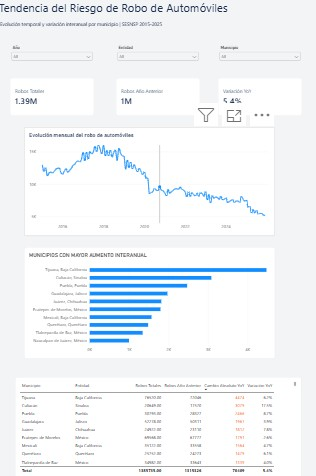

The page's visual inventory and layout, read from the dashboard file:
{"tool":"powerbi","page":{"name":"Tendencia del Riesgo","canvas":[1080,1600],"ordinal":1},"visuals":[{"type":"slicer","fields":{"Values":["DimFecha.Año"]},"box":[46.7,150,280,126.7],"z":0},{"type":"cardVisual","fields":{"Data":["Medidas.Robos Totales"]},"box":[46.7,260,280,126],"z":1000},{"type":"cardVisual","fields":{"Data":["Medidas.Robos Año Anterior"]},"box":[400,260,280,126],"z":2000},{"type":"cardVisual","fields":{"Data":["Medidas.Variación YoY"]},"box":[738.3,260,280,126],"z":3000},{"type":"slicer","fields":{"Values":["DimMunicipio.Entidad"]},"box":[400,150,280,126],"z":4000},{"type":"textbox","box":[0,0,820,150],"z":5000},{"type":"slicer","fields":{"Values":["DimMunicipio.Municipio"]},"box":[738.3,150,280,126],"z":6000},{"type":"lineChart","title":"Evolución mensual del robo de automóviles","fields":{"Category":["DimFecha.Date"],"Y":["Medidas.Robos Totales"]},"box":[91.7,421.7,836.7,365],"z":7000},{"type":"clusteredBarChart","title":"MUNICIPIOS CON MAYOR AUMENTO INTERANUAL","fields":{"Category":["DimMunicipio.Municipio Entidad"],"Y":["DimFecha.Cambio Absoluto YoY"]},"box":[91.7,823.3,836.7,373.3],"z":8000},{"type":"tableEx","fields":{"Values":["DimMunicipio.Municipio","DimMunicipio.Entidad","Medidas.Robos Totales","Medidas.Robos Año Anterior","DimFecha.Cambio Absoluto YoY","Medidas.Variación YoY"]},"box":[63.3,1256.7,955,343.3],"z":9000}]}

Visuals, with their boxes in screenshot pixels (x1, y1, x2, y2), scaled from the page's 1080x1600 canvas onto the 316x476 screenshot:
slicer - DimFecha.Año: Rect(14, 45, 96, 82)
cardVisual - Medidas.Robos Totales: Rect(14, 77, 96, 115)
cardVisual - Medidas.Robos Año Anterior: Rect(117, 77, 199, 115)
cardVisual - Medidas.Variación YoY: Rect(216, 77, 298, 115)
slicer - DimMunicipio.Entidad: Rect(117, 45, 199, 82)
textbox: Rect(0, 0, 240, 45)
slicer - DimMunicipio.Municipio: Rect(216, 45, 298, 82)
"Evolución mensual del robo de automóviles" lineChart: Rect(27, 125, 272, 234)
"MUNICIPIOS CON MAYOR AUMENTO INTERANUAL" clusteredBarChart: Rect(27, 245, 272, 356)
tableEx - DimMunicipio.Municipio x DimMunicipio.Entidad: Rect(19, 374, 298, 475)
